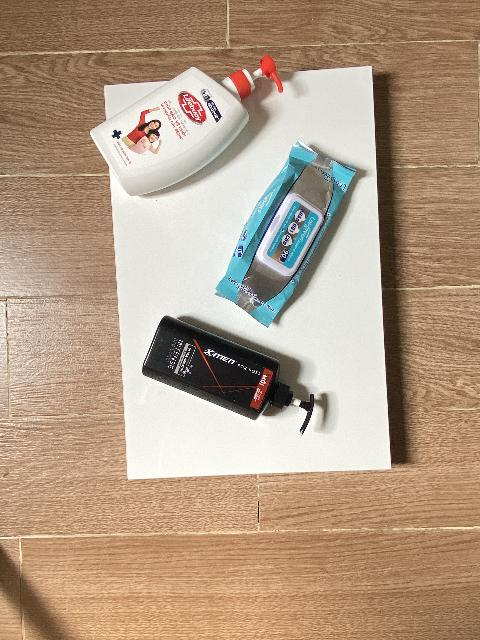Let-green_alcohol_wipes: (213, 139, 357, 328)
X-men: (142, 315, 315, 437)
life-buoy: (88, 55, 284, 197)
